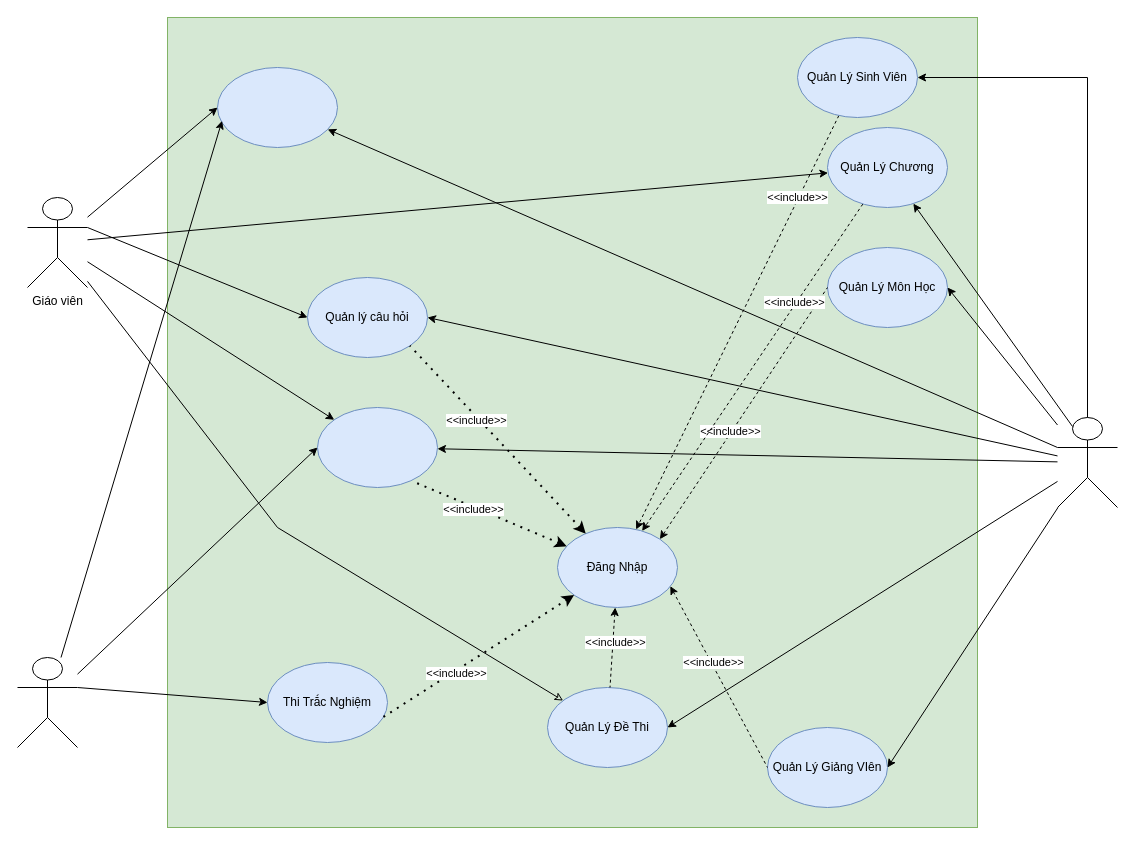
Some shapes in this 1141 by 845 pixel diagram are drawn without their labels. The centre of each missing label's shape, as x and y in pixels:
Học sinh: the point at 47,702
Quản Trị Viên: the point at 1087,462
Tra cứu kết quả: the point at 377,447
Đăng Xuất: the point at 277,107
